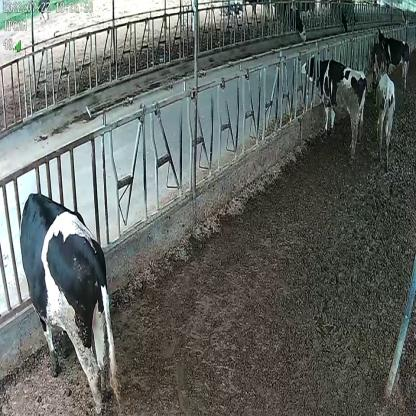cow: (18, 192, 121, 416), (301, 53, 366, 154), (373, 67, 395, 161)
